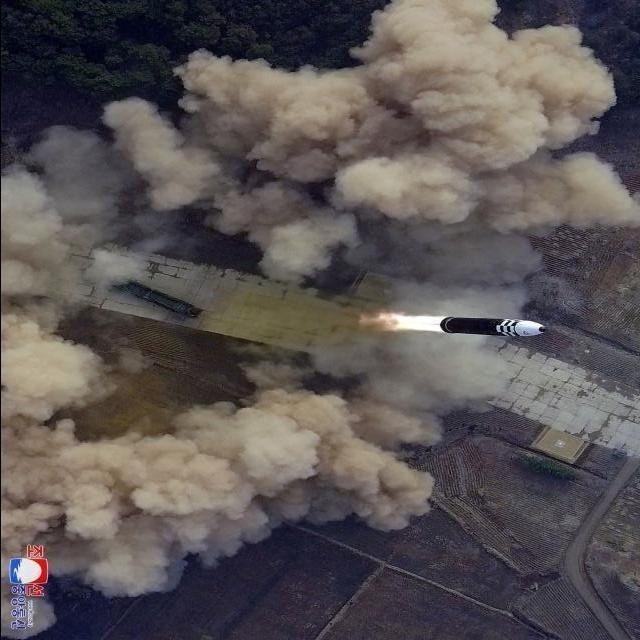missile: (436, 314, 547, 343)
